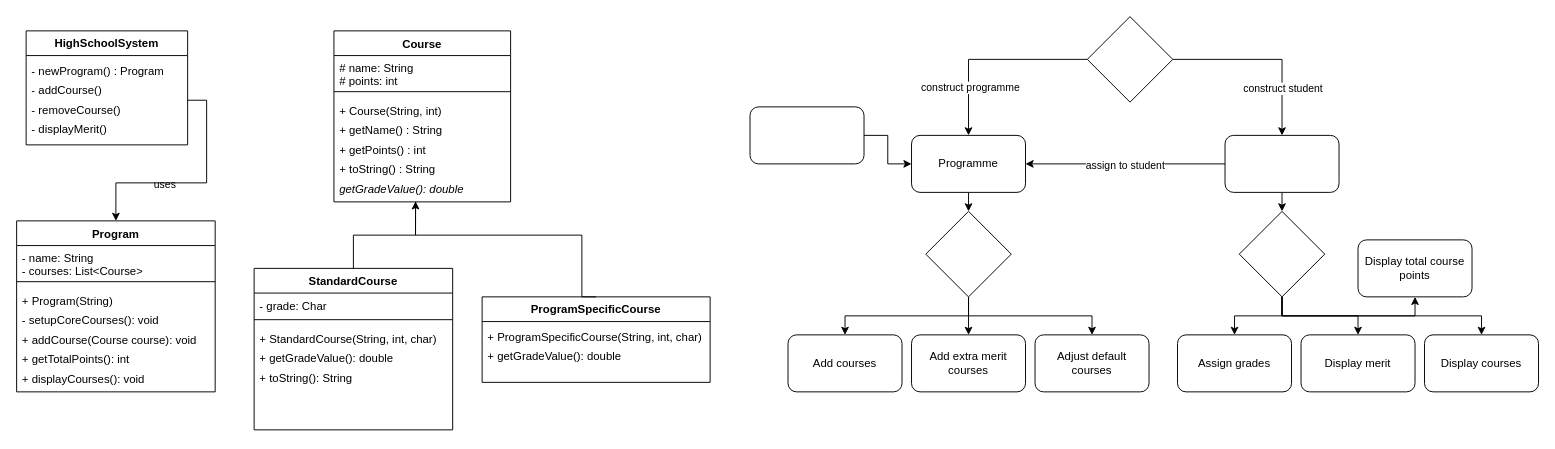
The diagram is 1555 pixels wide and 449 high, and some of its shapes have lost their labels. The shapes that lost their labels are listed below. From the top down, each one's centre as x and y in pixels, then its label:
At (x=1129, y=59): "Creation Interface".
At (x=806, y=135): "default courses added automatically".
At (x=1281, y=163): "Student".
At (x=968, y=253): "programme interface".
At (x=1281, y=253): "student interface".
